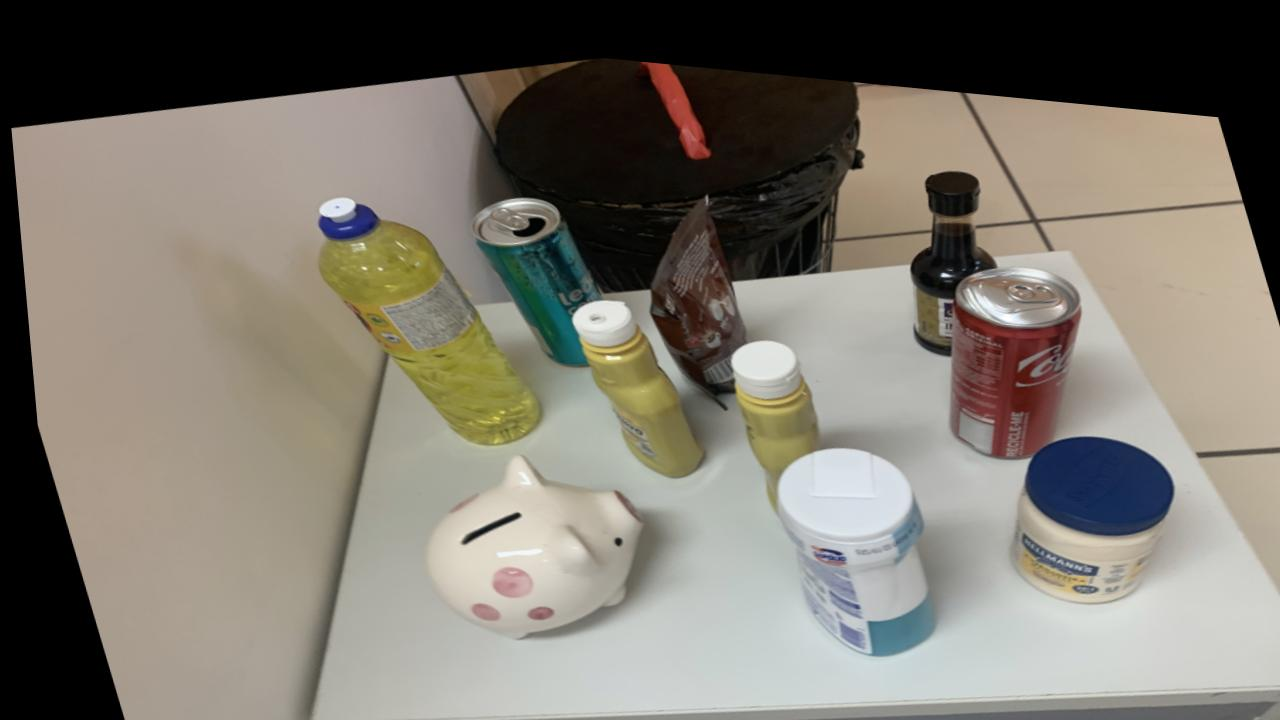Cleaner-Cleanup_Items: (769, 431, 925, 640)
Coffee-Pantry_Items: (645, 185, 742, 383)
Coke-Drinks: (942, 246, 1078, 439)
Detergent-Cleanup_Items: (313, 191, 533, 436)
English_Sauce-Pantry_Items: (906, 152, 993, 337)
Mayonnaise-Pantry_Items: (1001, 414, 1167, 583)
Mustard-Pantry_Items: (567, 287, 696, 465), (725, 325, 813, 495)
Pig_Safe-Miscellaneous: (415, 445, 634, 629)
Tea-Drinks: (467, 187, 596, 355)
